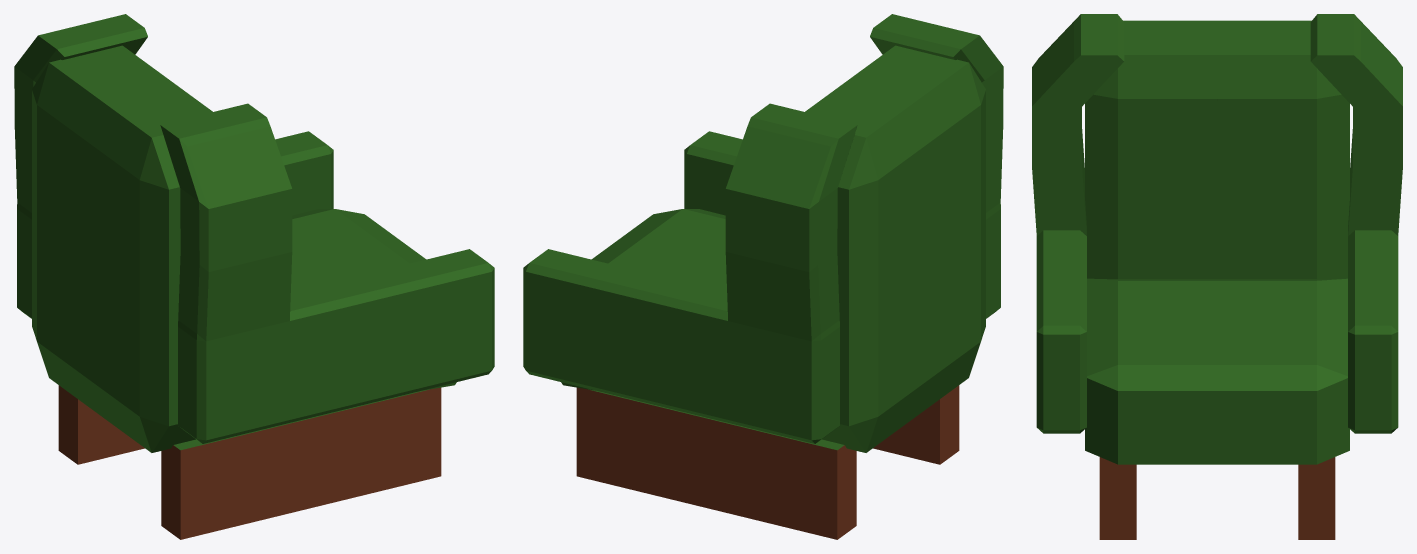
The model's file is BLS_WaitingChair_Shanna.fbx.
3 views of the same model, side by side, from view 1: azimuth 30°, elevation 25°; view 2: azimuth 150°, elevation 25°; view 3: azimuth 270°, elevation 25° (orthographic). The views are drawn at different scales.
Visible parts, largest first — view 1: Cube; view 2: Cube; view 3: Cube.
Boxes of the visible parts, <box> form: Cube: <box>14,14,494,539</box>; Cube: <box>523,14,1003,539</box>; Cube: <box>1032,14,1402,539</box>.
Bounding box in the file's own units: 378 × 453 × 383.
